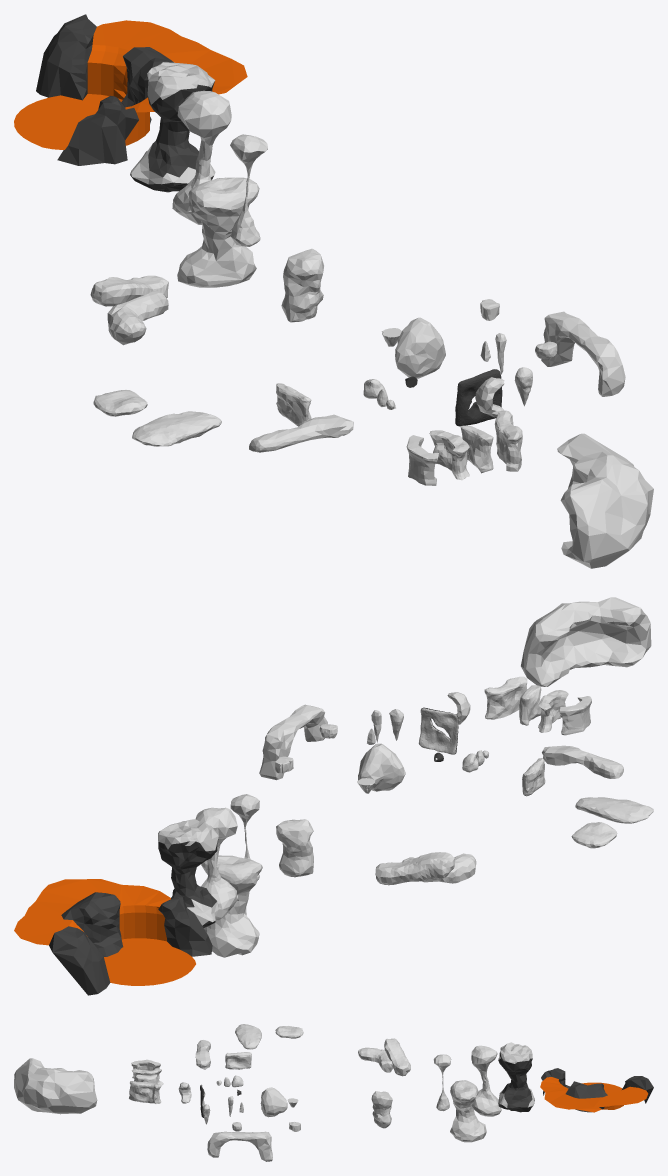
File: Volcano.fbx
The picture shows the model from 3 angles, top to bottom: view 1: azimuth 30°, elevation 25°; view 2: azimuth 150°, elevation 25°; view 3: azimuth 270°, elevation 25°; orthographic projection. The views are drawn at different scales.
Visible parts, largest first — view 1: Lava Cove, Cave Section 1, Pillar 1, Pillar 2, Arch 2, Pillar 3, Pedestal 1, Rock Corner, Floor 2, Path 2, Bridge 1, Pillar 4 (+8 smaller); view 2: Lava Cove, Cave Section 1, Pillar 2, Pillar 1, Arch 2, Pillar 3, Pedestal 1, Path 1, Rock Corner, Crack 1, Floor 2, Bridge 1 (+8 smaller); view 3: Cave Section 1, Lava Cove, Pillar 2, Pillar 1, Pillar 3, Arch 2, Cliff 3, Pedestal 1, Path 1, Rock Corner, Floor 2, Path 2 (+7 smaller).
Part boxes in pixels (left/top/right/bottom): Lava Cove: left=14, top=14, right=247, bottom=165; Cave Section 1: left=557, top=433, right=653, bottom=568; Pillar 1: left=177, top=177, right=259, bottom=287; Pillar 2: left=130, top=62, right=215, bottom=192; Arch 2: left=541, top=311, right=625, bottom=396; Pillar 3: left=172, top=90, right=231, bottom=224; Pedestal 1: left=281, top=248, right=323, bottom=322; Rock Corner: left=395, top=317, right=445, bottom=378; Floor 2: left=132, top=411, right=221, bottom=446; Path 2: left=107, top=290, right=168, bottom=345; Bridge 1: left=249, top=414, right=353, bottom=452; Pillar 4: left=230, top=134, right=267, bottom=246; Lava Cove: left=14, top=879, right=212, bottom=995; Cave Section 1: left=521, top=597, right=651, bottom=686; Pillar 2: left=158, top=819, right=218, bottom=927; Pillar 1: left=201, top=855, right=262, bottom=957; Arch 2: left=259, top=704, right=327, bottom=780; Pillar 3: left=195, top=807, right=237, bottom=920; Pedestal 1: left=276, top=819, right=313, bottom=877; Path 1: left=375, top=852, right=454, bottom=885; Rock Corner: left=358, top=743, right=405, bottom=791; Crack 1: left=418, top=707, right=458, bottom=754; Floor 2: left=575, top=797, right=653, bottom=823; Bridge 1: left=542, top=745, right=623, bottom=778; Cave Section 1: left=14, top=1058, right=97, bottom=1114; Lava Cove: left=540, top=1068, right=653, bottom=1112; Pillar 2: left=498, top=1042, right=534, bottom=1112; Pillar 1: left=450, top=1080, right=486, bottom=1142; Pillar 3: left=471, top=1045, right=501, bottom=1116; Arch 2: left=207, top=1131, right=272, bottom=1161; Cliff 3: left=129, top=1081, right=161, bottom=1103; Pedestal 1: left=371, top=1091, right=392, bottom=1128; Path 1: left=384, top=1038, right=410, bottom=1076; Rock Corner: left=260, top=1087, right=287, bottom=1117; Floor 2: left=235, top=1024, right=261, bottom=1049; Path 2: left=358, top=1047, right=393, bottom=1072.
Size of the model in its own units: 12153 by 4625 by 28838.
